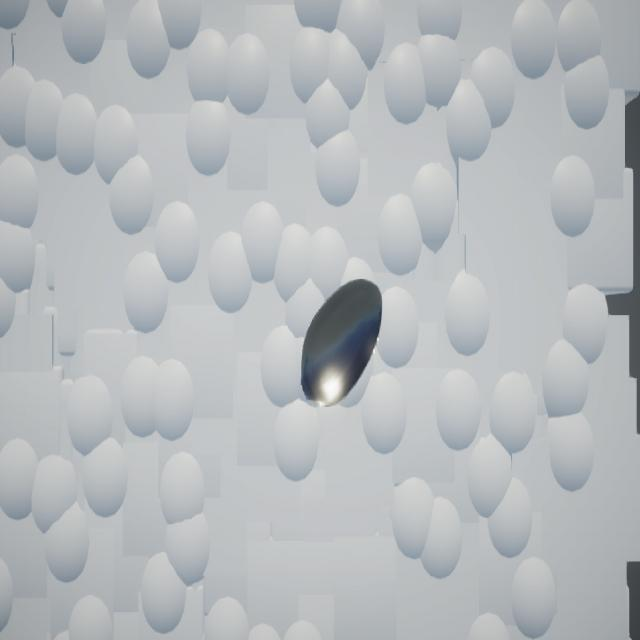top_spoon: (302, 280, 384, 408)
